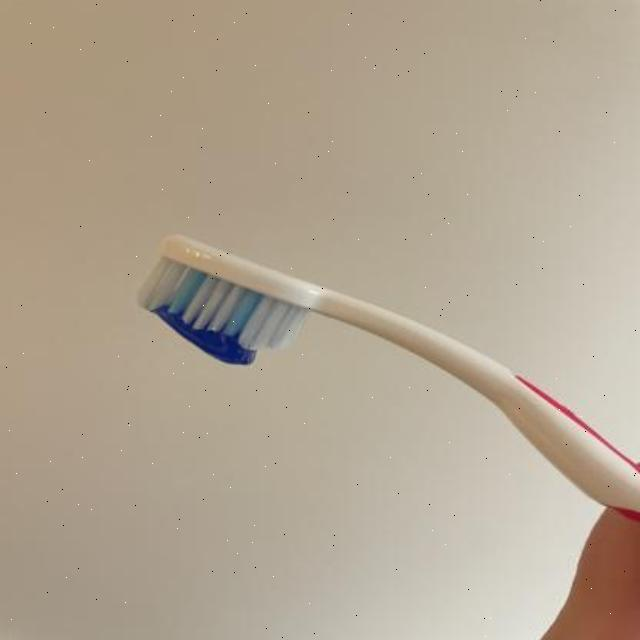toothbrush: (128, 224, 640, 534)
